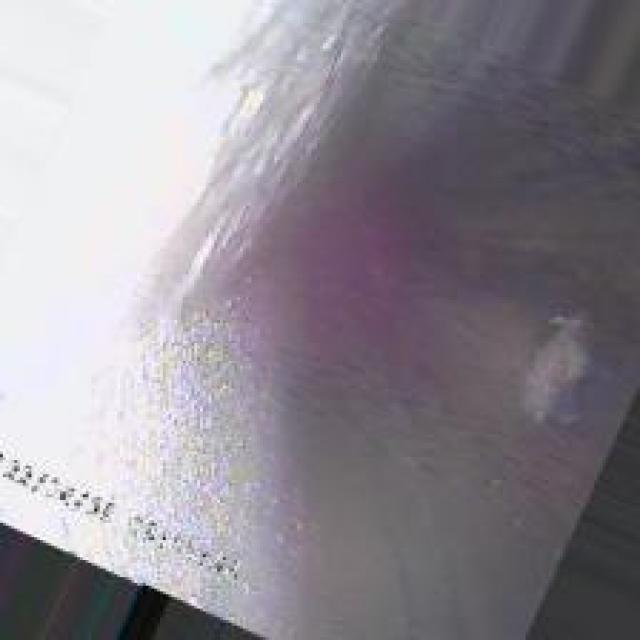ferrule: (506, 306, 600, 434)
